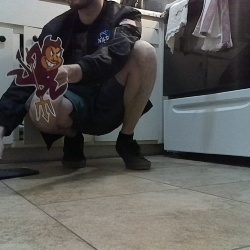sparky: (4, 34, 68, 123)
